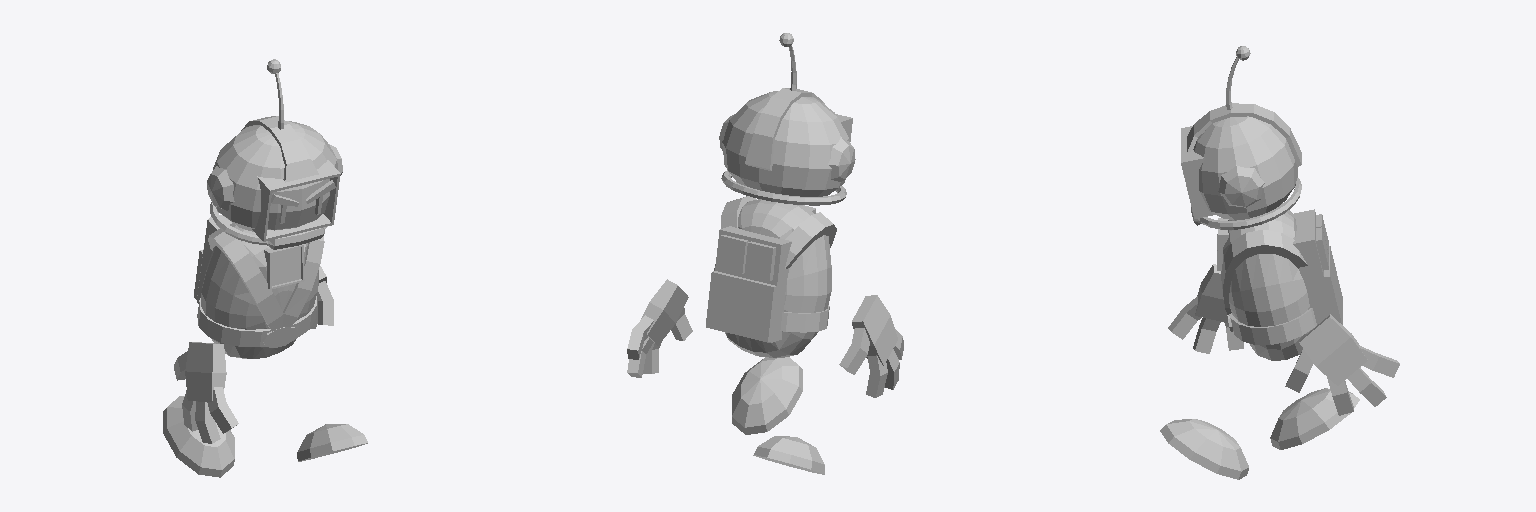
File: bomberman_000007.obj
3 views of the same model, side by side, from view 1: azimuth 30°, elevation 25°; view 2: azimuth 150°, elevation 25°; view 3: azimuth 270°, elevation 25° (orthographic).
Parts seen in each view (by area): view 1: BM_BODY.002_Mesh.009, BM_Head.002_Mesh.005, BM_Head.001_Mesh.004, BM_BODY.001_Mesh.008, R_Hand_Mesh.003, R_Foot_Mesh.001, L_Foot_Mesh, L_Hand_Mesh.002; view 2: BM_BODY.002_Mesh.009, BM_Head.002_Mesh.005, BM_BODY.001_Mesh.008, BM_Head.001_Mesh.004, L_Foot_Mesh, R_Hand_Mesh.003, L_Hand_Mesh.002, R_Foot_Mesh.001; view 3: BM_BODY.002_Mesh.009, BM_Head.002_Mesh.005, BM_BODY.001_Mesh.008, BM_Head.001_Mesh.004, L_Hand_Mesh.002, L_Foot_Mesh, R_Hand_Mesh.003, R_Foot_Mesh.001.
Boxes of the visible parts, box(x1,y1,x2,y2) form: BM_BODY.002_Mesh.009: box(194, 215, 324, 347); BM_Head.002_Mesh.005: box(213, 121, 337, 249); BM_Head.001_Mesh.004: box(207, 116, 342, 245); BM_BODY.001_Mesh.008: box(201, 223, 318, 358); R_Hand_Mesh.003: box(174, 342, 238, 443); R_Foot_Mesh.001: box(163, 396, 234, 477); L_Foot_Mesh: box(297, 424, 367, 461); L_Hand_Mesh.002: box(310, 266, 333, 328); BM_BODY.002_Mesh.009: box(706, 196, 836, 342); BM_Head.002_Mesh.005: box(722, 91, 849, 196); BM_BODY.001_Mesh.008: box(714, 199, 831, 357); BM_Head.001_Mesh.004: box(719, 88, 855, 205); L_Foot_Mesh: box(732, 357, 802, 434); R_Hand_Mesh.003: box(839, 295, 903, 397); L_Hand_Mesh.002: box(627, 279, 692, 377); R_Foot_Mesh.001: box(753, 436, 824, 474); BM_BODY.002_Mesh.009: box(1217, 203, 1342, 344); BM_Head.002_Mesh.005: box(1191, 116, 1297, 225); BM_BODY.001_Mesh.008: box(1223, 211, 1312, 360); BM_Head.001_Mesh.004: box(1181, 103, 1301, 229); L_Hand_Mesh.002: box(1285, 314, 1399, 415); L_Foot_Mesh: box(1160, 419, 1248, 479); R_Hand_Mesh.003: box(1168, 264, 1243, 353); R_Foot_Mesh.001: box(1270, 388, 1359, 449).
Size of the model in its own units: 3.78 by 8.08 by 4.21.